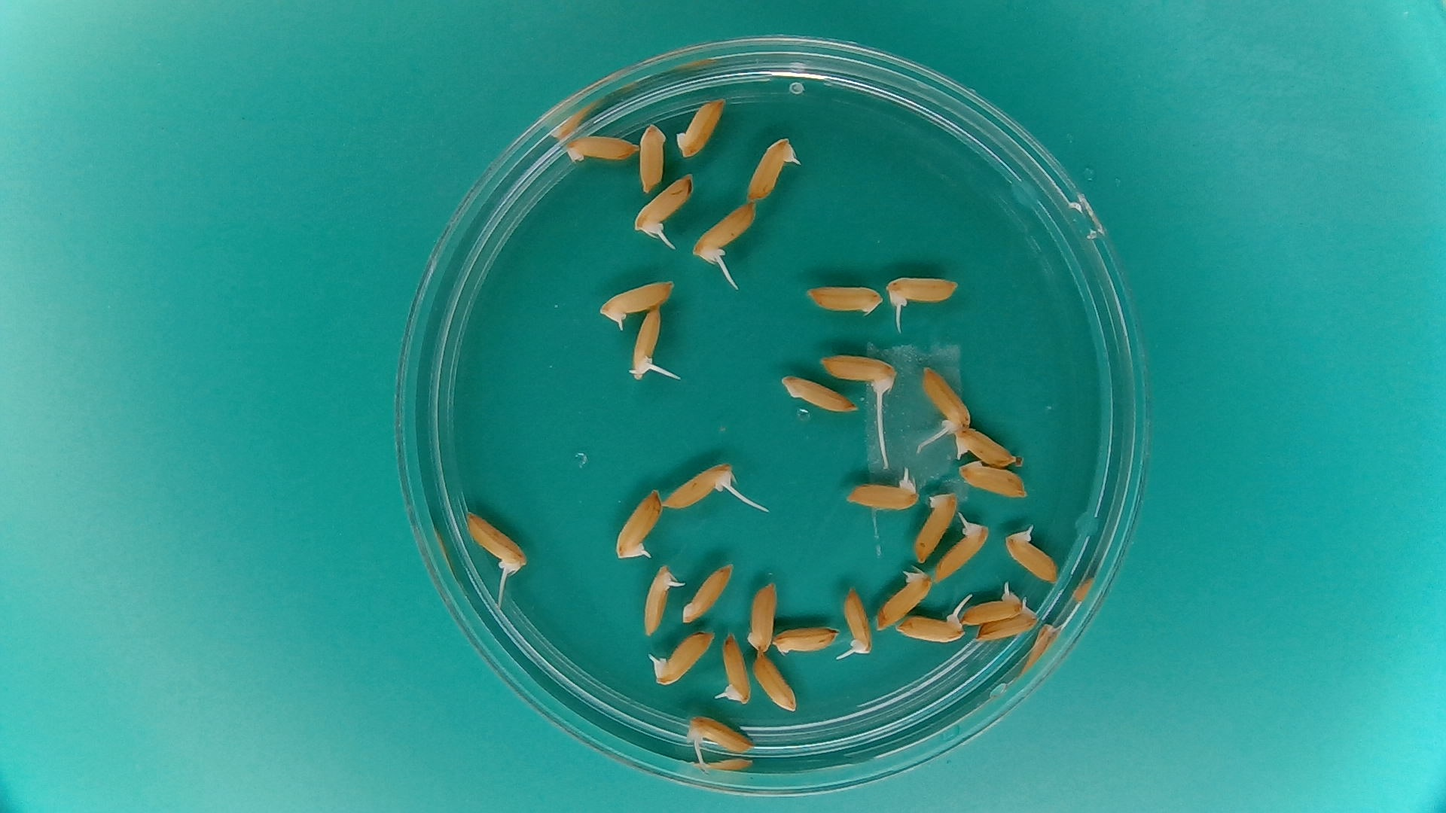no: (872, 565, 935, 632), (673, 91, 728, 163), (679, 560, 736, 628), (911, 488, 959, 564), (781, 373, 859, 415), (749, 649, 799, 714), (559, 129, 642, 166), (955, 459, 1030, 498), (745, 576, 779, 654), (807, 284, 884, 318), (773, 623, 841, 655), (637, 120, 667, 192)
yes: (460, 510, 526, 574), (691, 199, 760, 257), (651, 627, 717, 687), (658, 461, 735, 512), (633, 174, 697, 233), (919, 364, 972, 433), (617, 483, 665, 559), (819, 351, 896, 395), (743, 137, 795, 202), (932, 519, 986, 581), (599, 280, 676, 322), (1003, 531, 1060, 585), (684, 714, 755, 756), (951, 425, 1021, 467), (959, 583, 1027, 626), (715, 629, 752, 705), (626, 303, 662, 381), (885, 275, 961, 309), (844, 474, 914, 510), (641, 563, 676, 635), (842, 585, 874, 661), (894, 610, 961, 645), (970, 607, 1042, 639)
